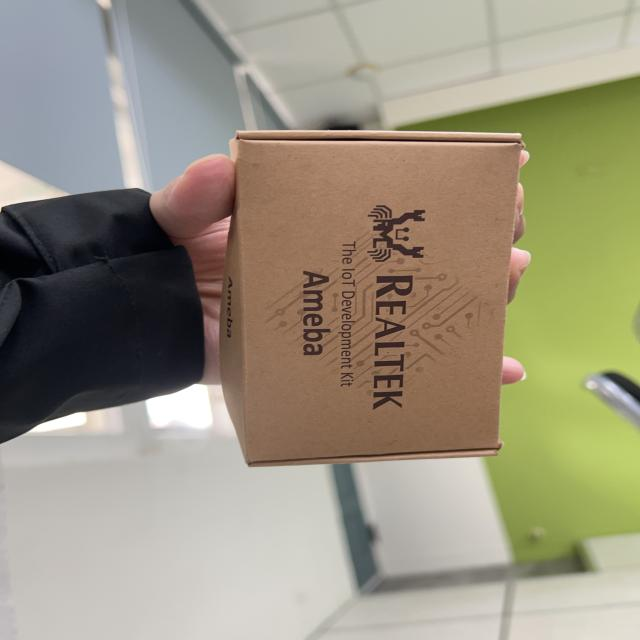box: (221, 119, 517, 489)
